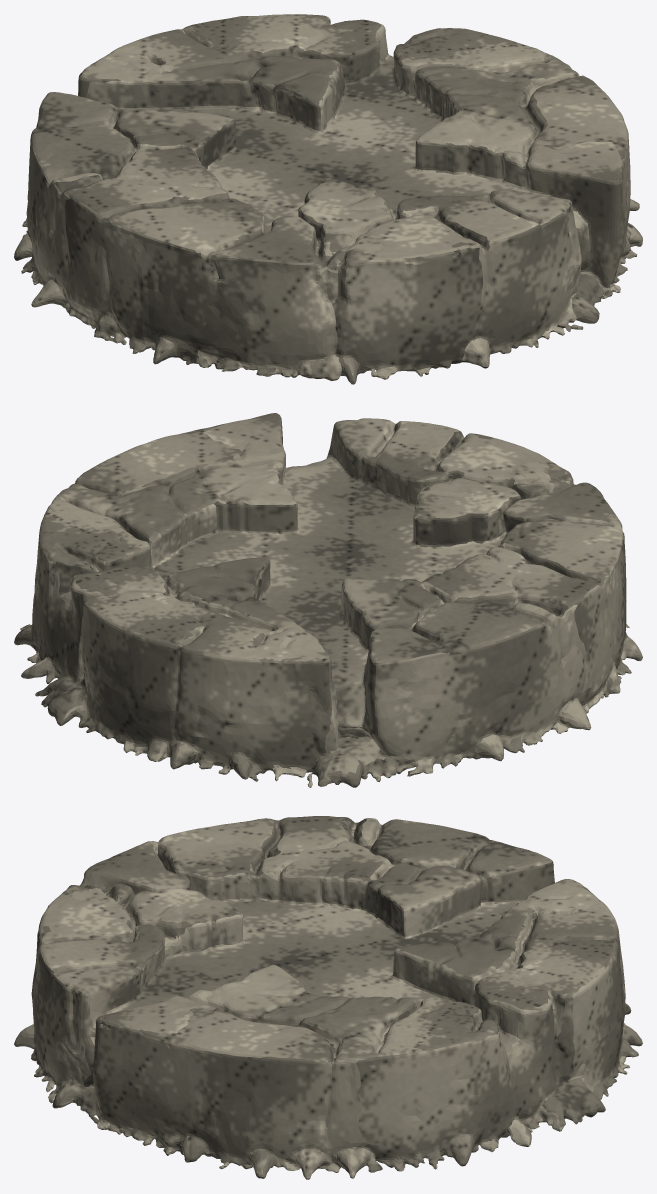
The picture shows the model from 3 angles, top to bottom: view 1: azimuth 30°, elevation 25°; view 2: azimuth 150°, elevation 25°; view 3: azimuth 270°, elevation 25°; orthographic projection. The views are drawn at different scales.
Parts seen in each view (by area): view 1: temp_mesh.ply; view 2: temp_mesh.ply; view 3: temp_mesh.ply.
Part boxes in pixels (box(x1,y1,x2,y2)): temp_mesh.ply: box(14, 14, 642, 384); temp_mesh.ply: box(14, 413, 642, 787); temp_mesh.ply: box(14, 816, 642, 1179).
Bounding box in the file's own units: 1.97 × 0.4128 × 1.97.
1 material, 1 textured.
